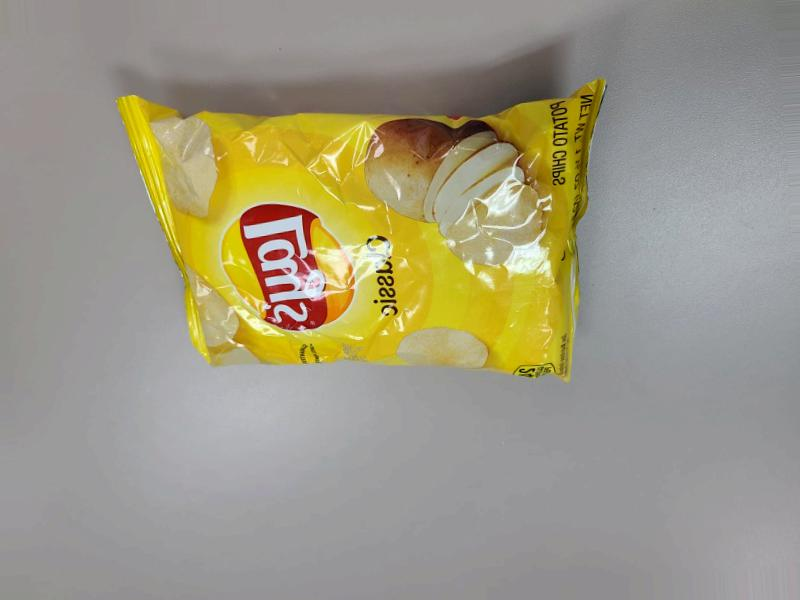lays: (119, 80, 630, 384)
